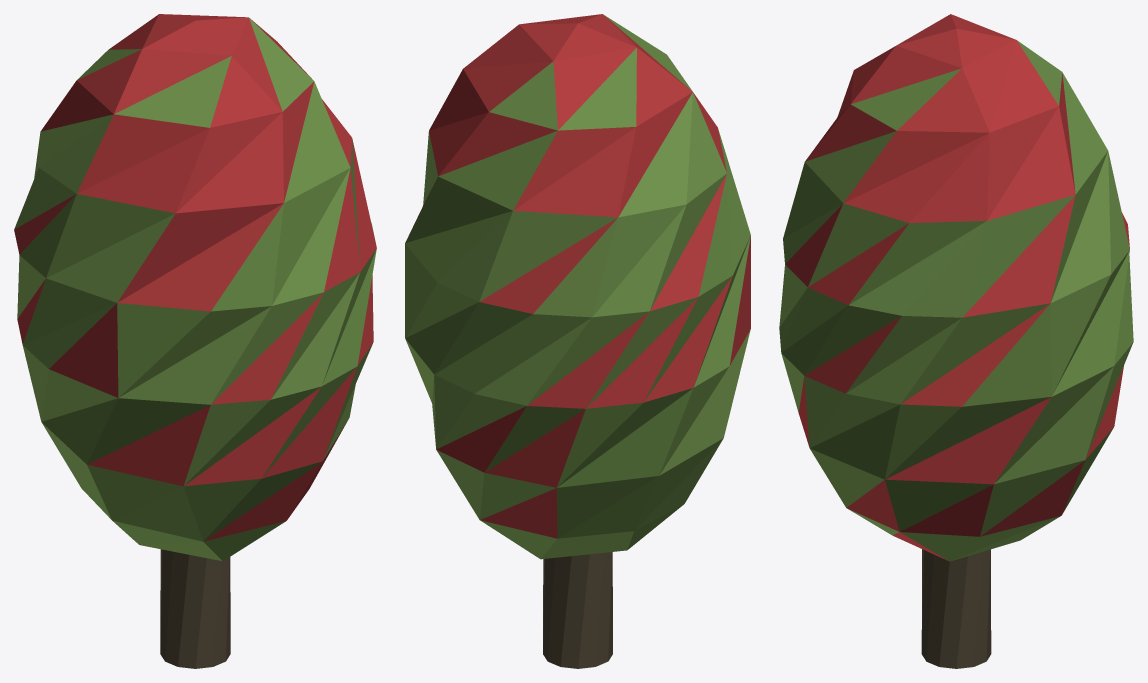
File: autumn_leaves1.dae
3 renders of one model, left to right at view 1: azimuth 30°, elevation 25°; view 2: azimuth 150°, elevation 25°; view 3: azimuth 270°, elevation 25°, orthographic.
Parts seen in each view (by area): view 1: Kugel, Zylinder; view 2: Kugel, Zylinder; view 3: Kugel, Zylinder.
Part boxes in pixels (bbox=[...]): Kugel: bbox=[14, 14, 376, 561]; Zylinder: bbox=[160, 549, 230, 668]; Kugel: bbox=[405, 14, 750, 559]; Zylinder: bbox=[543, 552, 612, 668]; Kugel: bbox=[779, 14, 1133, 561]; Zylinder: bbox=[921, 549, 991, 668].
Bounding box in the file's own units: 15.14 × 30.05 × 15.43.
